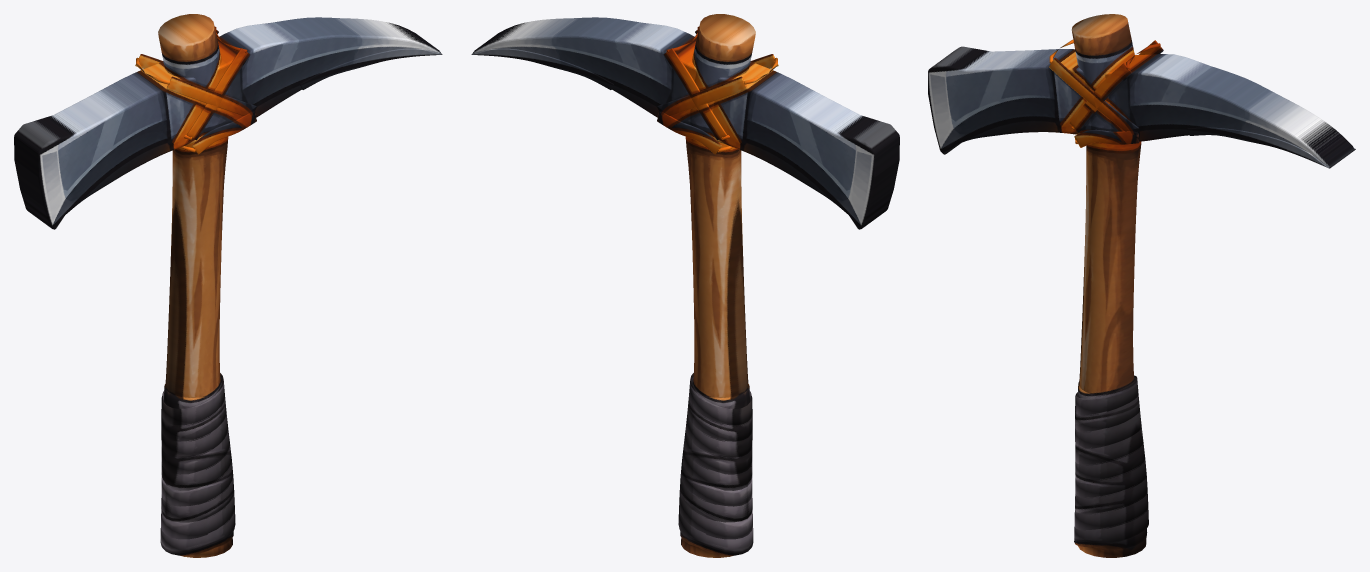
File: pickaxe.glb
3 views of the same model, side by side, from view 1: azimuth 30°, elevation 25°; view 2: azimuth 150°, elevation 25°; view 3: azimuth 330°, elevation 25° (orthographic).
Visible parts, largest first — view 1: reference-traced forged head.001, reference-shaped carved wooden haft.001, leather grip underlay.001, rounded orange socket wrap 0.002, wide polished working bevel.001; view 2: reference-traced forged head.001, reference-shaped carved wooden haft.001, leather grip underlay.001, rounded orange socket wrap 0.002, wide polished working bevel.001; view 3: reference-traced forged head.001, reference-shaped carved wooden haft.001, leather grip underlay.001, rounded orange socket wrap 0.002, wide polished working bevel.001.
Boxes of the visible parts, x1,y1,x2,y2 form: reference-traced forged head.001: [14, 17, 441, 229]; reference-shaped carved wooden haft.001: [158, 14, 232, 557]; leather grip underlay.001: [160, 373, 235, 555]; rounded orange socket wrap 0.002: [135, 26, 256, 154]; wide polished working bevel.001: [300, 48, 442, 89]; reference-traced forged head.001: [472, 17, 899, 229]; reference-shaped carved wooden haft.001: [681, 14, 755, 557]; leather grip underlay.001: [678, 373, 753, 555]; rounded orange socket wrap 0.002: [657, 26, 778, 154]; wide polished working bevel.001: [471, 48, 613, 89]; reference-traced forged head.001: [928, 46, 1354, 167]; reference-shaped carved wooden haft.001: [1071, 14, 1146, 557]; leather grip underlay.001: [1074, 375, 1148, 549]; rounded orange socket wrap 0.002: [1049, 39, 1163, 147]; wide polished working bevel.001: [1187, 127, 1355, 168].
Bounding box in the file's own units: 0.9466 × 1.17 × 0.1525.
5 materials, 5 textured.
